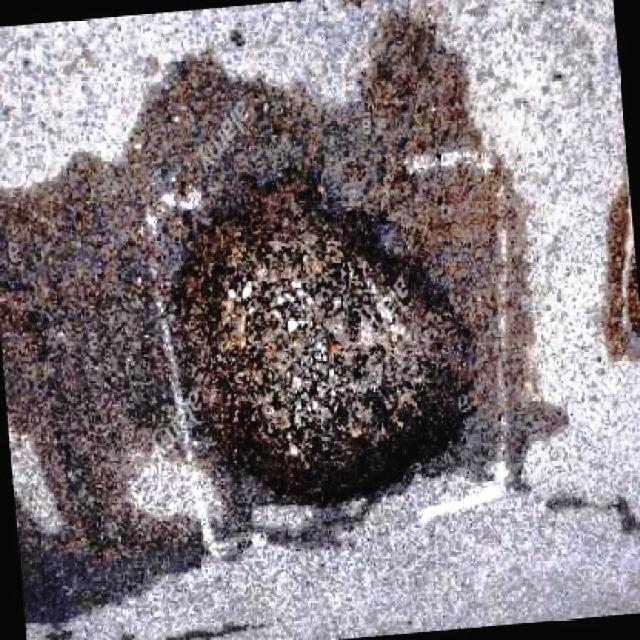pothole: (149, 149, 497, 517)
